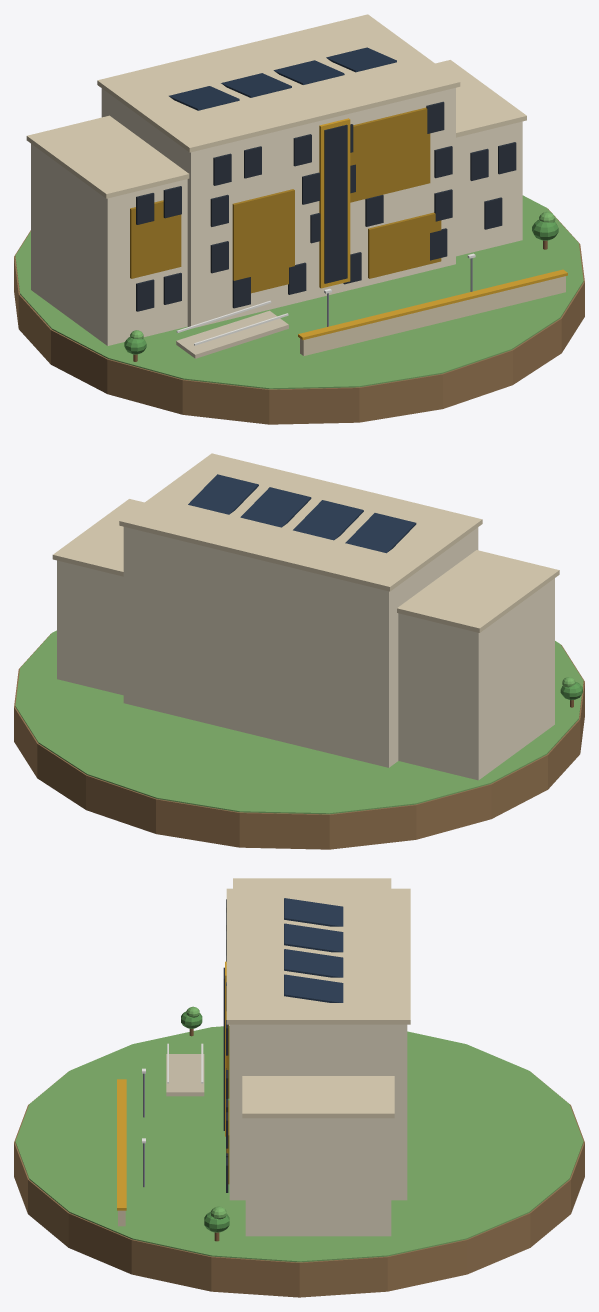
File: libraryMall.glb
The picture shows the model from 3 angles, top to bottom: view 1: azimuth 30°, elevation 25°; view 2: azimuth 150°, elevation 25°; view 3: azimuth 270°, elevation 25°; orthographic projection.
Visible parts, largest first — view 1: libraryMall; view 2: libraryMall; view 3: libraryMall.
Part boxes in pixels (bbox=[...]): libraryMall: bbox=[14, 14, 584, 424]; libraryMall: bbox=[14, 453, 584, 849]; libraryMall: bbox=[14, 878, 584, 1297].
Bounding box in the file's own units: 18 × 7.86 × 18.
